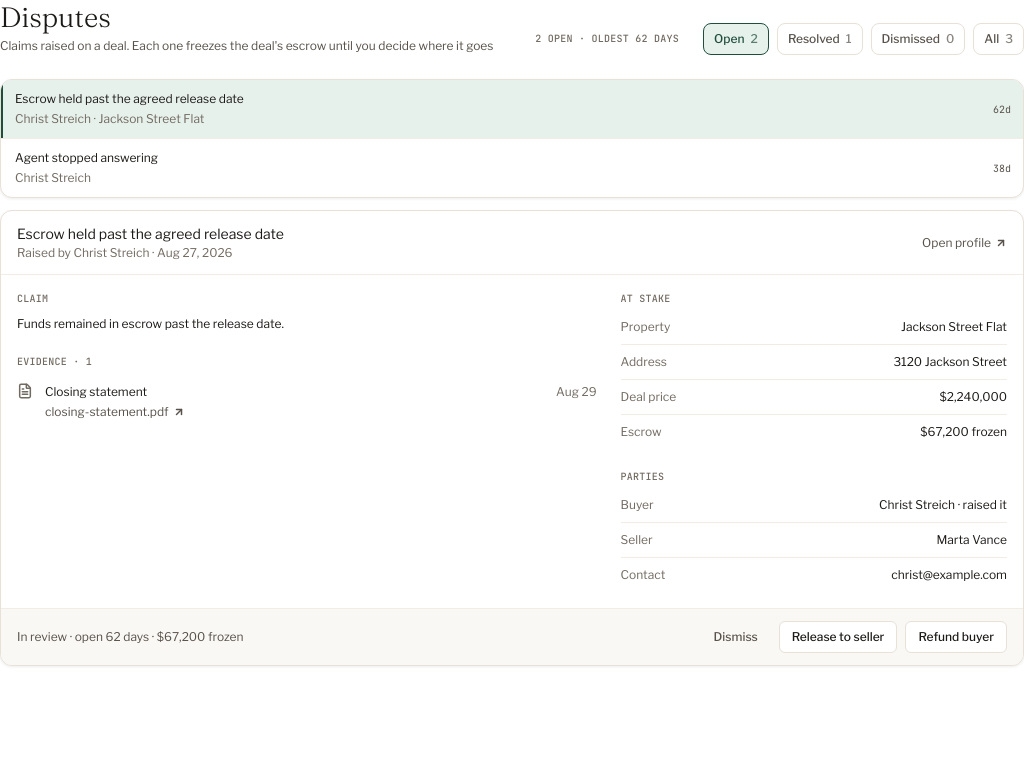
Test: AdminDisputesConsole · 03 deciding › 3.2 names the dispute, the amount and the person paid, and states that the decision is final
Click the button "Release to seller": (838, 637) top-left (779, 621), bottom-right (897, 653)
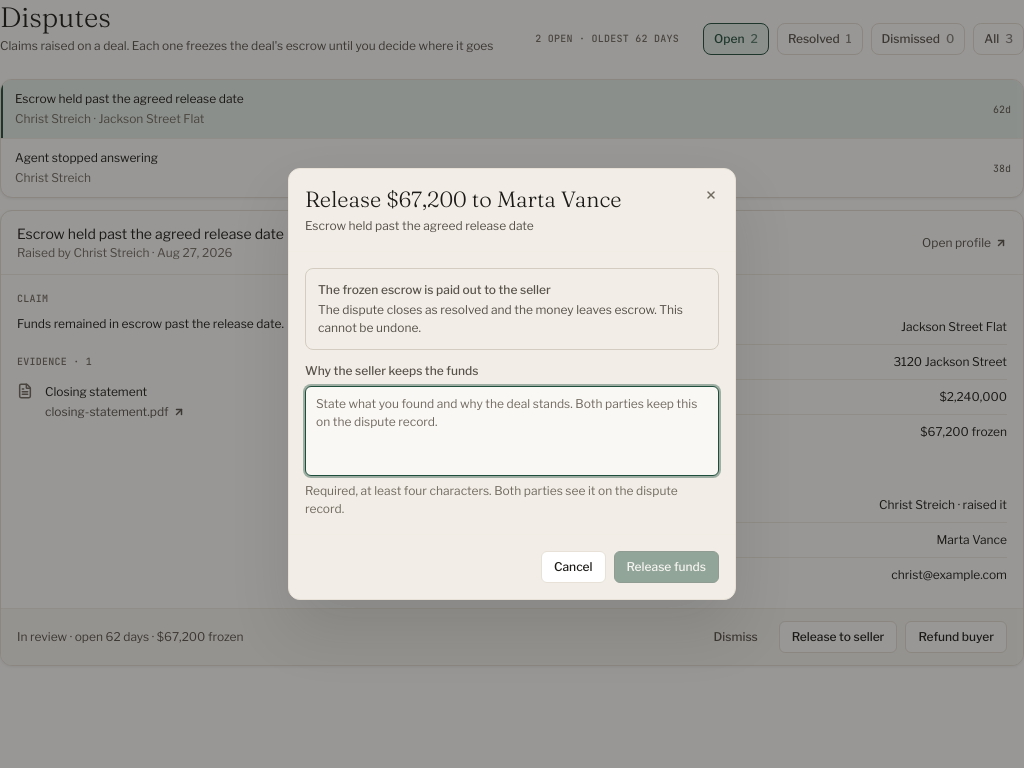
Expected: the dialog shows "Escrow held past the agreed release date", top-left (305, 218), bottom-right (534, 233)
Expected: the dialog shows "cannot be undone", top-left (318, 302), bottom-right (683, 335)
